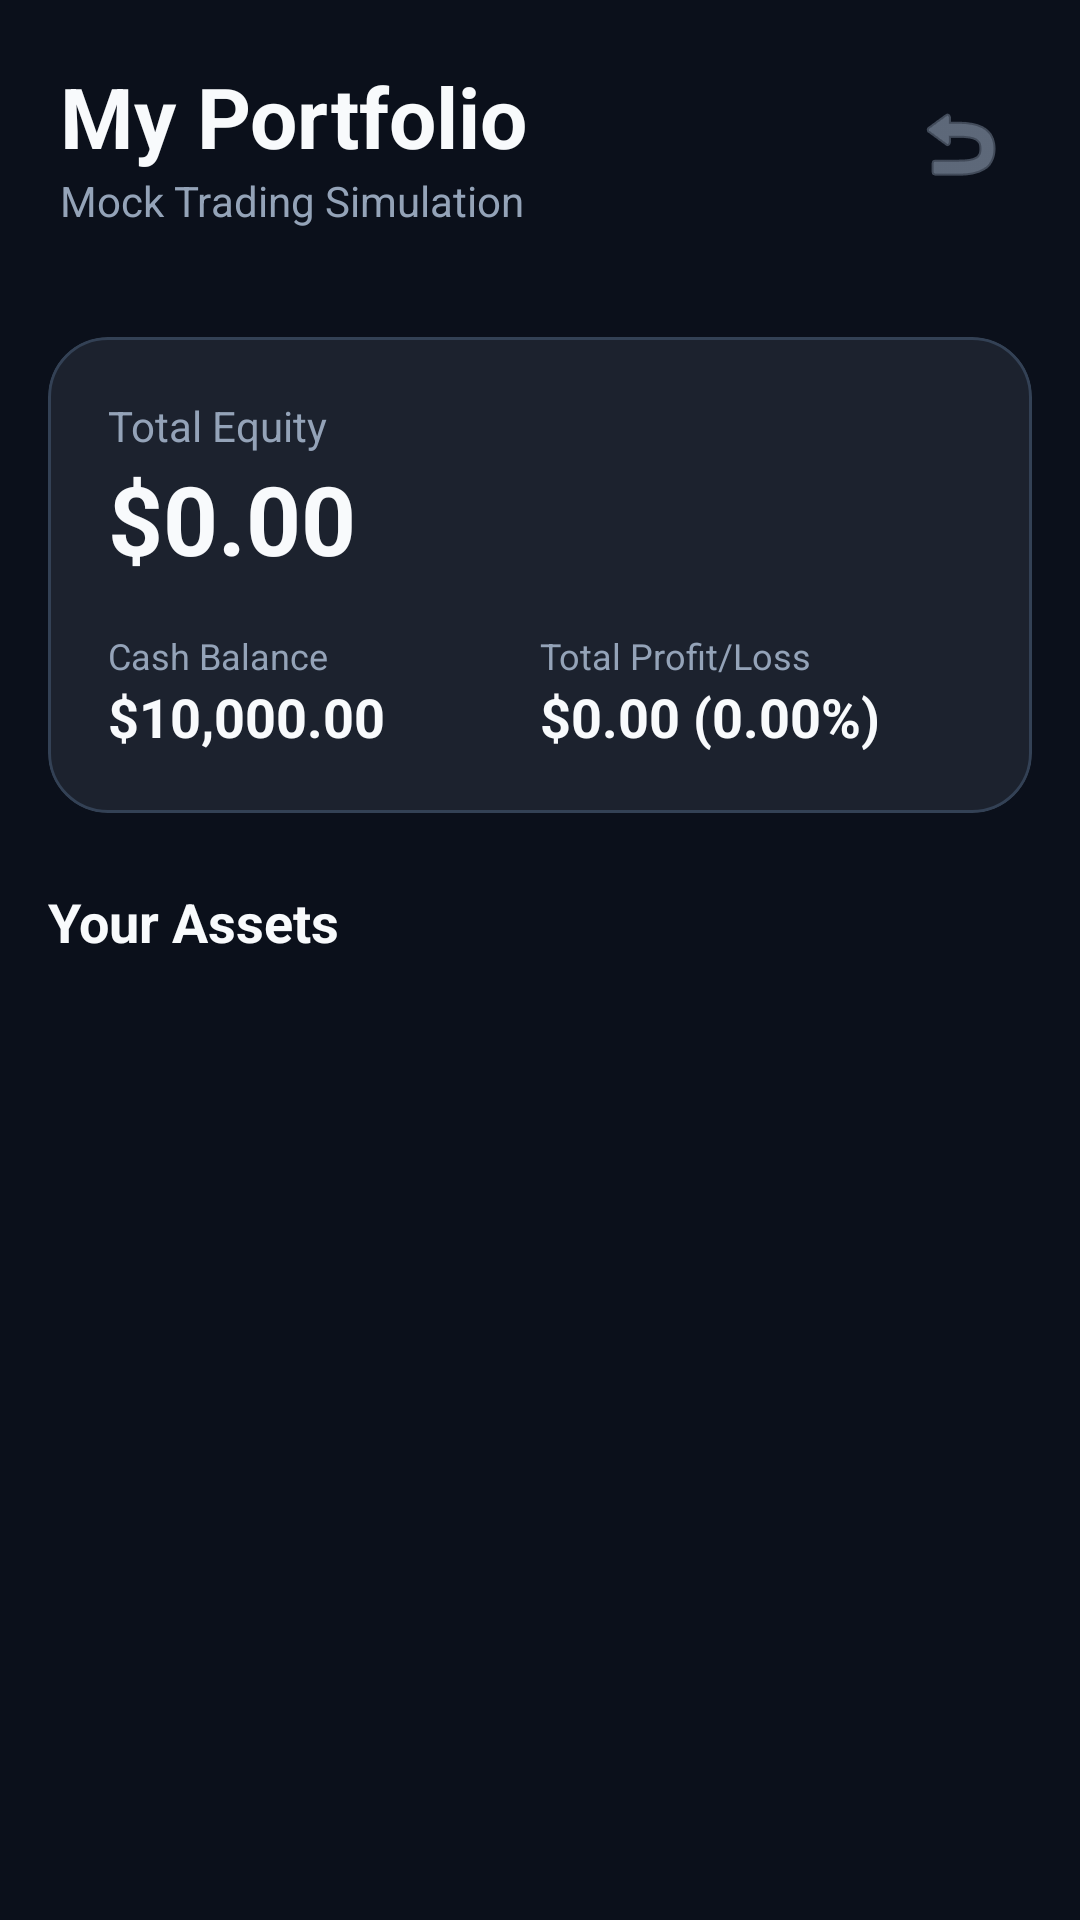

Icons on this 1080×1920 Android screen, each with the point to tap as point (x, y):
Reset Portfolio: point (961, 145)
